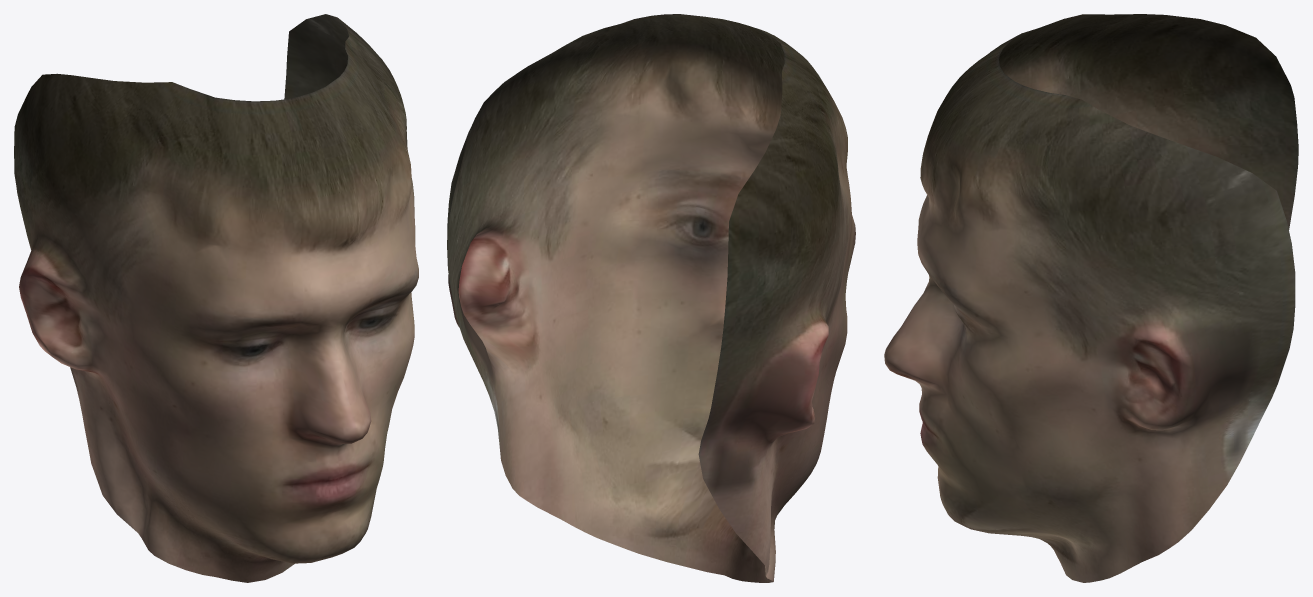
The model's file is headScanLow.glb.
3 renders of one model, left to right at view 1: azimuth 30°, elevation 25°; view 2: azimuth 150°, elevation 25°; view 3: azimuth 270°, elevation 25°, orthographic. The views are drawn at different scales.
Visible parts, largest first — view 1: Node; view 2: Node; view 3: Node.
Part boxes in pixels (x1=…): Node: x1=14, y1=14, x2=418, y2=582; Node: x1=447, y1=14, x2=855, y2=582; Node: x1=884, y1=14, x2=1298, y2=582.
Bounding box in the file's own units: 191 × 258 × 189.
Materials: 1 (1 with a texture image).
